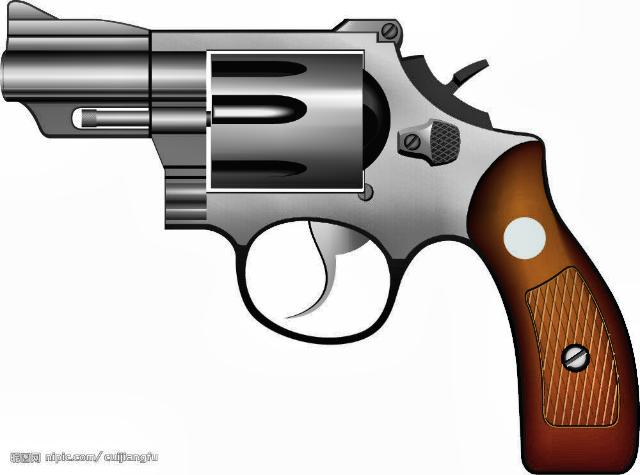pistol: (6, 1, 640, 472)
